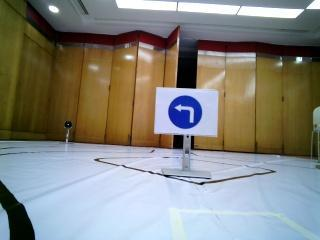left: (159, 88, 218, 138)
